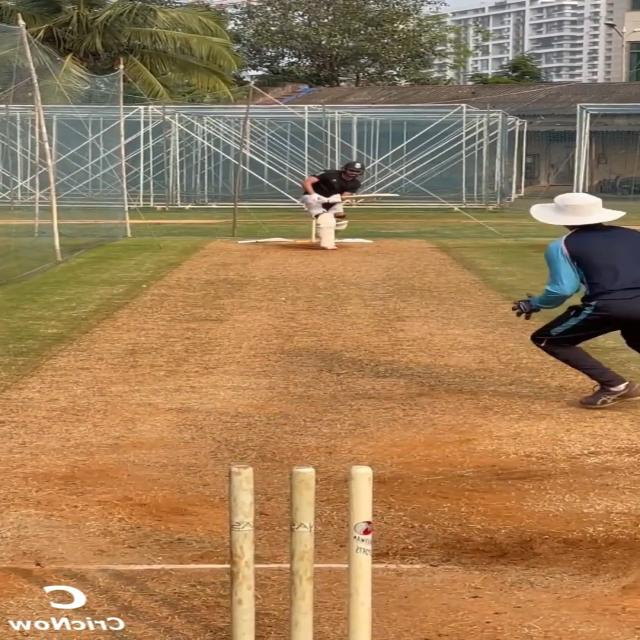ball: (332, 212, 347, 220)
stump: (224, 464, 374, 640)
